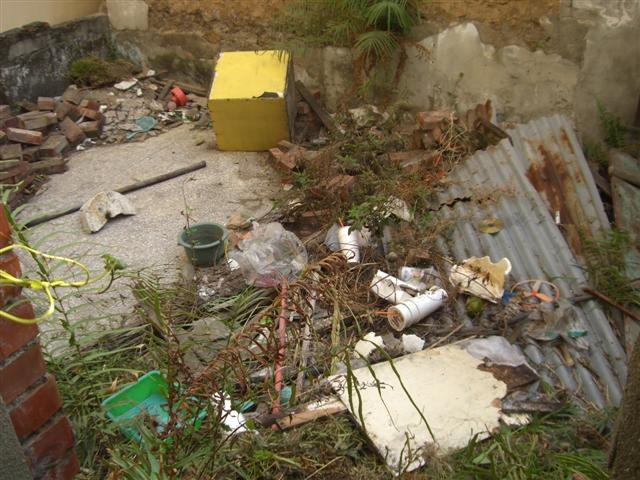bottle: (386, 285, 449, 332), (337, 224, 362, 266)
bowl: (179, 221, 227, 267)
box: (96, 368, 209, 454), (207, 49, 297, 152)
plastic_bag: (236, 219, 309, 289)
